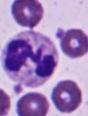N: (2, 30, 58, 88)
